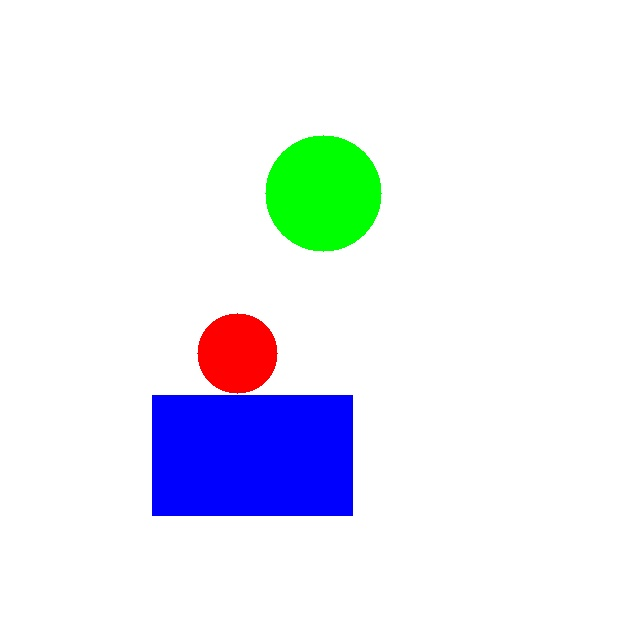cartao: (152, 395, 352, 515)
rosca_externa: (265, 135, 381, 251)
rosca_interna: (197, 313, 277, 393)
